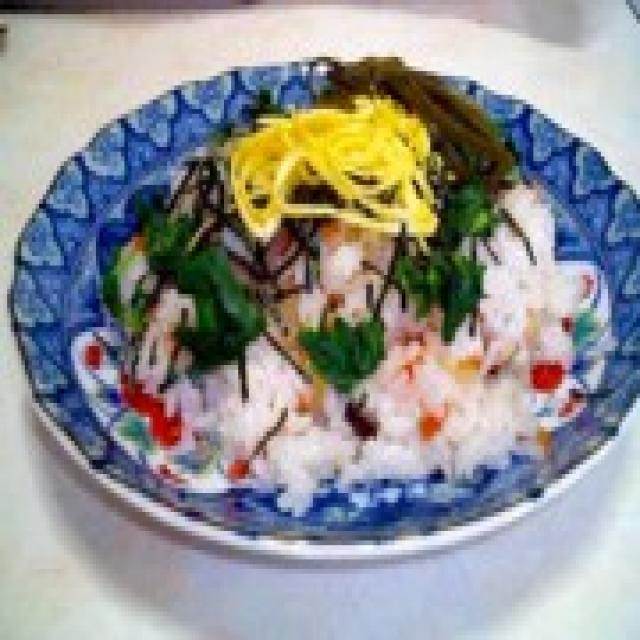寿司卷物: (0, 47, 640, 569)
